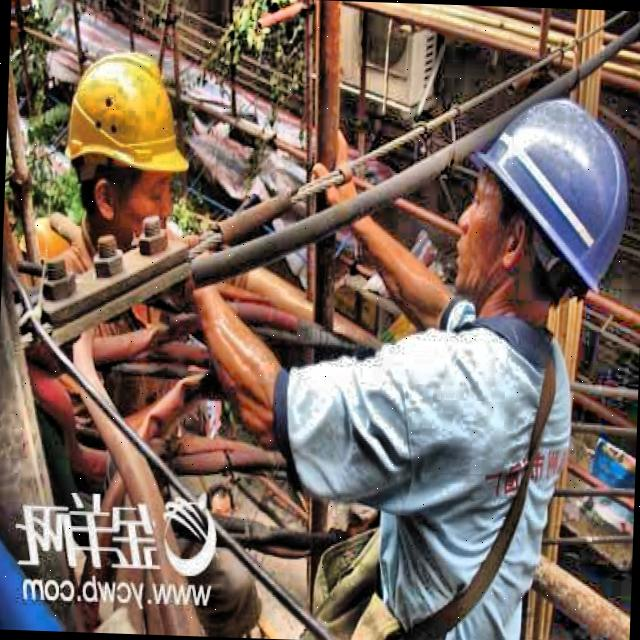helmet: (428, 79, 640, 346), (48, 31, 203, 255)
